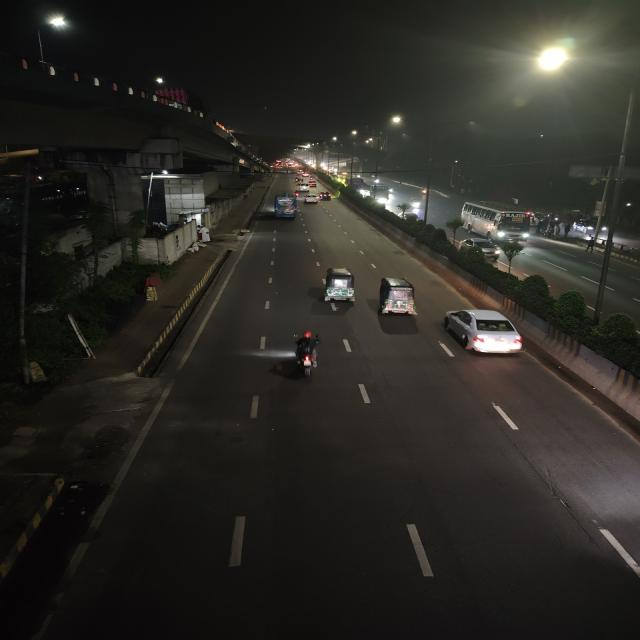bus: (460, 200, 534, 243), (274, 194, 298, 218)
car: (436, 304, 530, 362), (459, 236, 504, 260), (304, 193, 318, 205), (317, 191, 333, 201), (296, 181, 308, 192), (307, 179, 318, 187)
cng: (372, 274, 422, 320), (317, 266, 361, 306)
motorcycle: (286, 330, 327, 379)
pedestrian: (584, 235, 597, 256), (561, 222, 574, 238)
